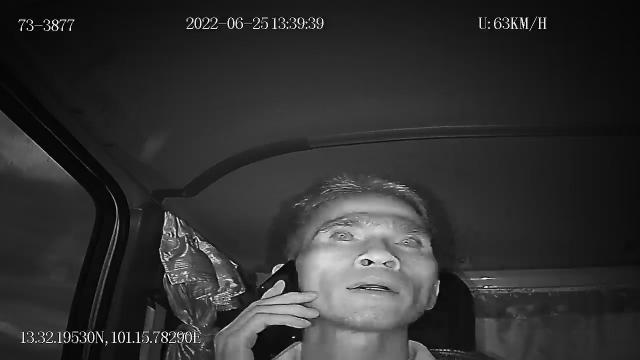PhoneUse: (252, 256, 304, 360)
SafeDriving: (386, 227, 432, 255), (322, 221, 366, 247)
